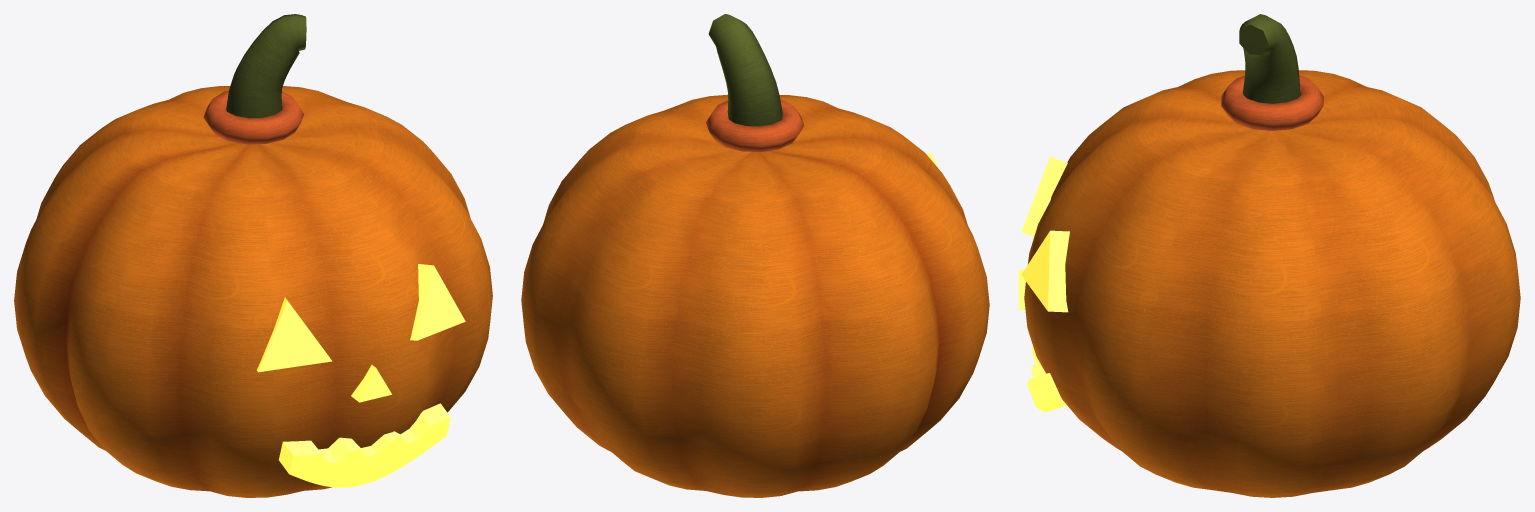
File: e24ce334-b779-4aca-adac-f347b0d8d6e2.glb
The picture shows the model from 3 angles, left to right: view 1: azimuth 30°, elevation 25°; view 2: azimuth 150°, elevation 25°; view 3: azimuth 270°, elevation 25°; orthographic projection. The views are drawn at different scales.
Parts seen in each view (by area): view 1: Ball; view 2: Ball; view 3: Ball.
Boxes of the visible parts, x1,y1,x2,y2 form: Ball: (14,14,492,497); Ball: (521,14,989,497); Ball: (1018,14,1520,497).
Size of the model in its own units: 1.08 by 1.07 by 1.1.
2 materials, 1 textured.
